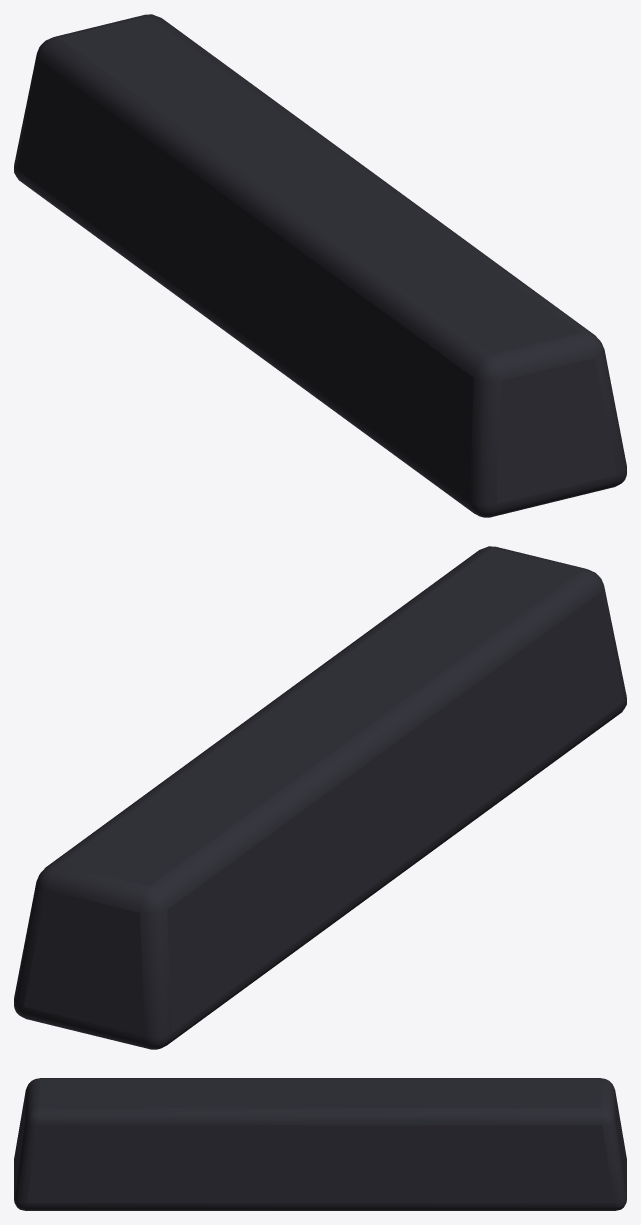
The model's file is music-key-black.glb.
The picture shows the model from 3 angles, top to bottom: view 1: azimuth 30°, elevation 25°; view 2: azimuth 150°, elevation 25°; view 3: azimuth 270°, elevation 25°; orthographic projection. The views are drawn at different scales.
Parts seen in each view (by area): view 1: music-key-black; view 2: music-key-black; view 3: music-key-black.
Boxes of the visible parts, bbox=[...] form: music-key-black: bbox=[14, 14, 626, 517]; music-key-black: bbox=[14, 546, 626, 1049]; music-key-black: bbox=[14, 1078, 626, 1210].
Size of the model in its own units: 0.5453 by 0.5 by 2.88.
Materials: 1 (1 with a texture image).
